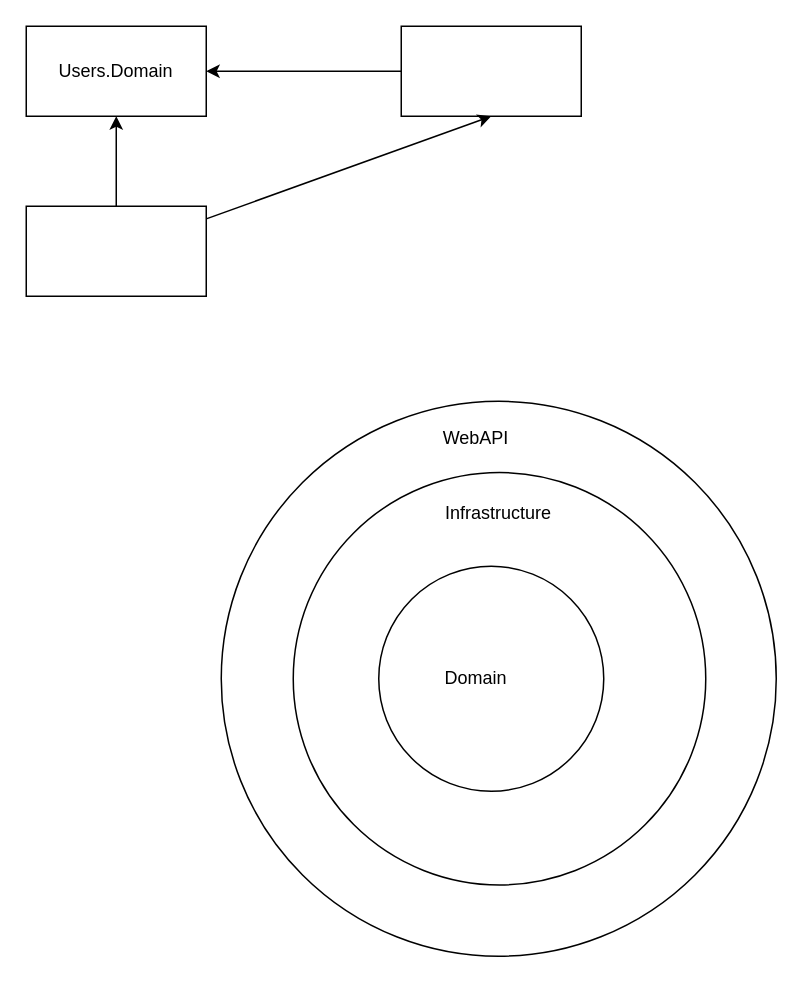
Some shapes in this 803 by 983 pixel diagram are drawn without their labels. The box of each missing label's shape, as (x1, y1, x2, y2) in pixels:
Users.Infrastructure: (400, 25, 581, 116)
Users.WebAPI: (25, 205, 206, 296)
